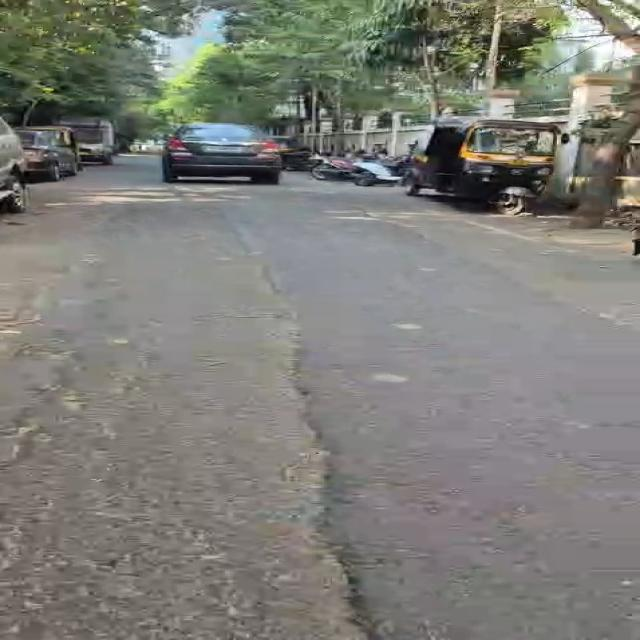obstacle: (161, 0, 393, 137), (0, 0, 208, 122), (357, 0, 495, 116), (575, 0, 639, 227), (572, 64, 639, 228), (574, 63, 639, 228), (158, 43, 282, 124), (163, 123, 282, 184), (17, 127, 81, 181), (0, 118, 26, 213), (484, 0, 503, 108), (421, 39, 441, 119), (333, 82, 344, 153), (311, 86, 321, 151), (22, 98, 40, 126)
vehical: (354, 159, 403, 186), (311, 156, 353, 180)
